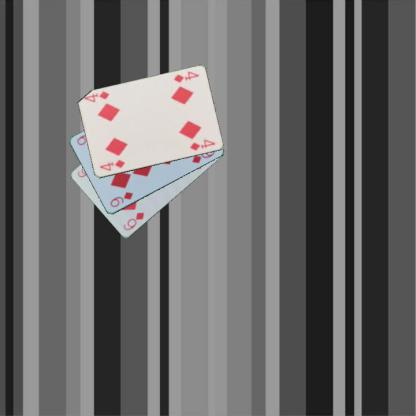4d: (97, 157, 126, 172), (171, 69, 200, 84)
6d: (120, 209, 146, 232)
9d: (108, 190, 134, 209)
